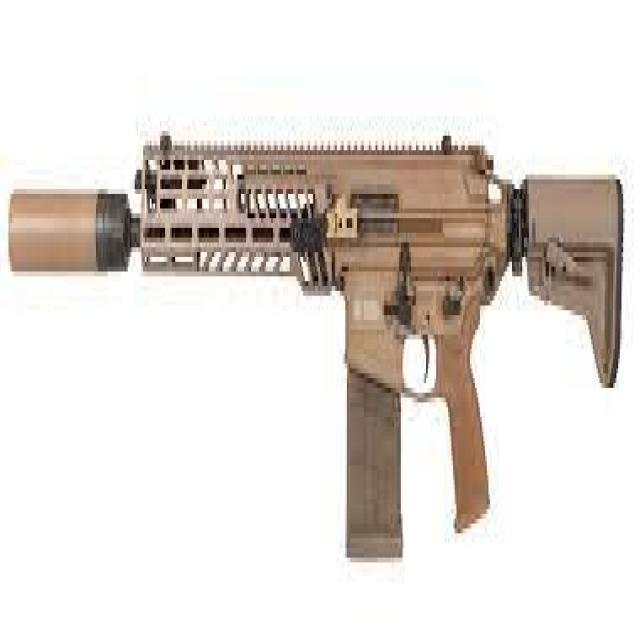weapon: (8, 128, 625, 564)
